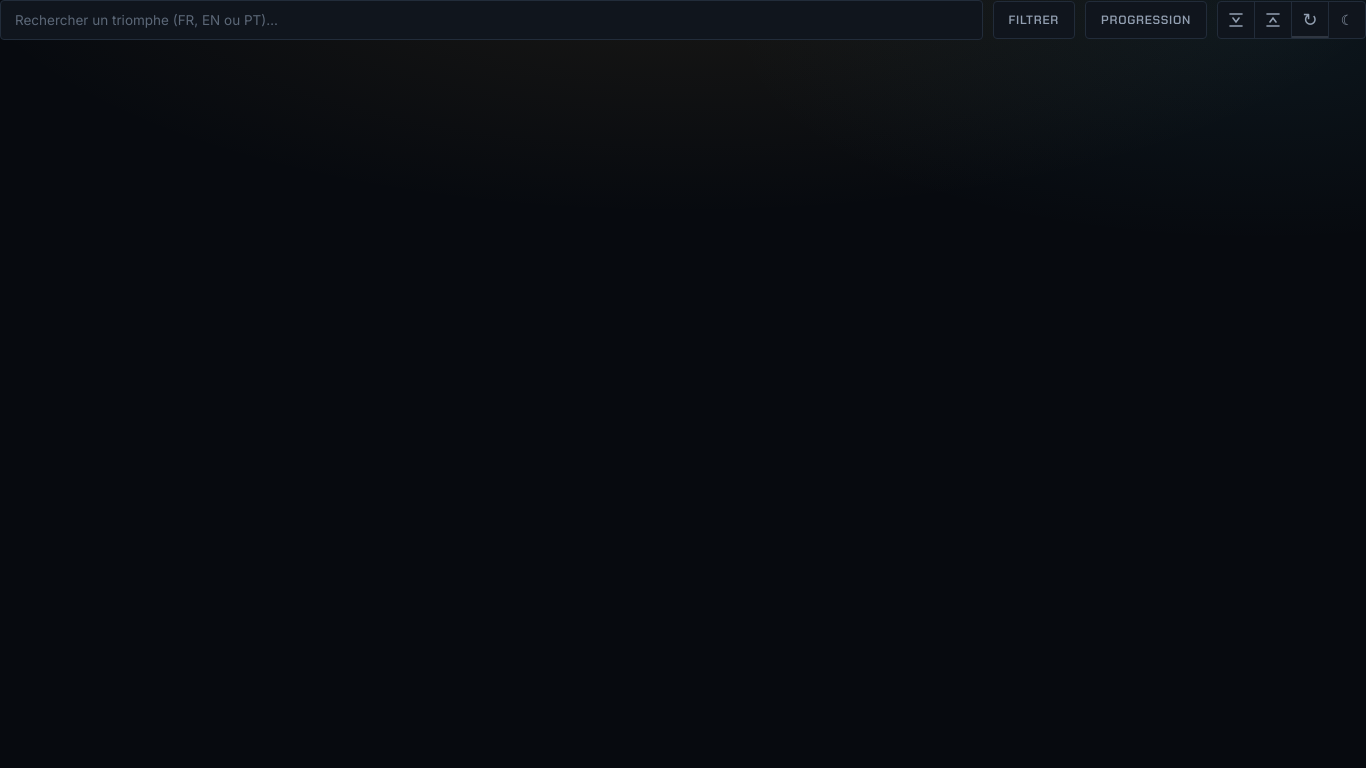
it: Toolbar › opens filter popover when "Filtrer" is clicked
Click the button "Filtrer": (1034, 20) x1=993 y1=1 x2=1075 y2=39
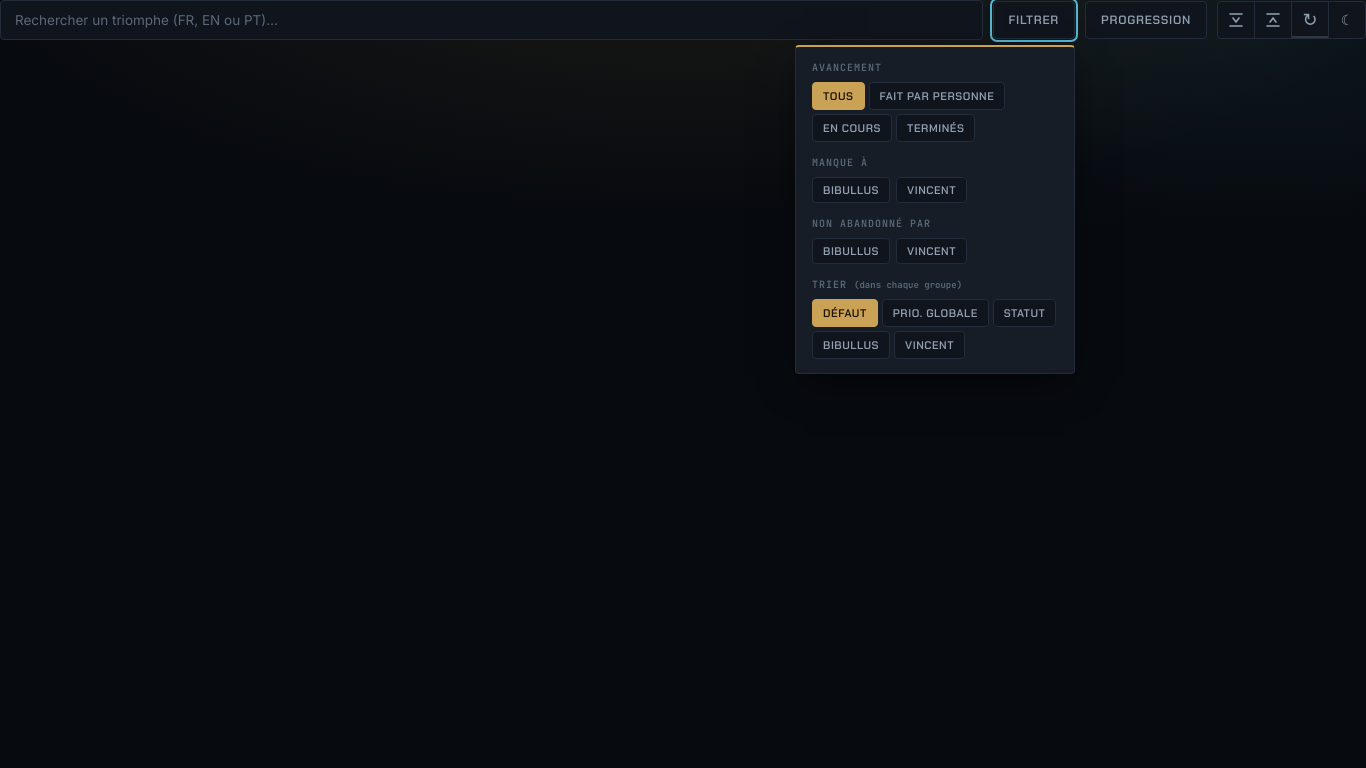
Result: the dialog is shown at x1=795 y1=45 x2=1075 y2=374
